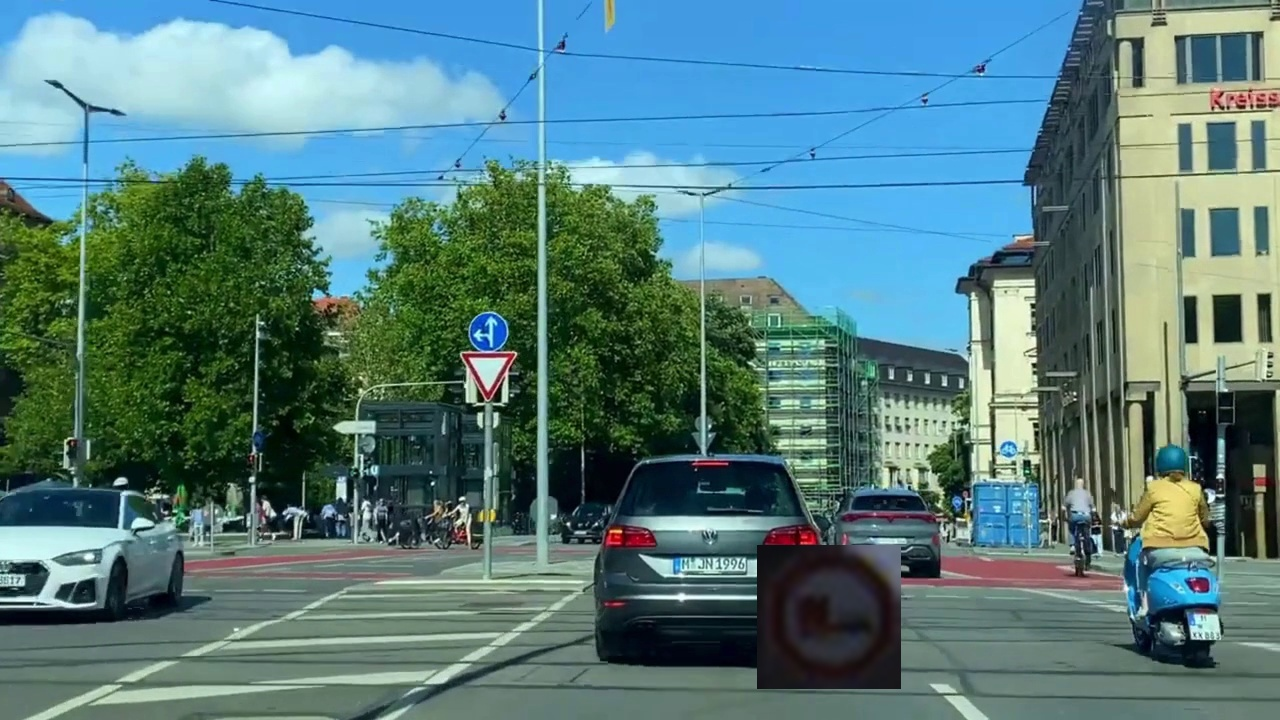No pass >3.5t: (757, 545, 901, 689)
